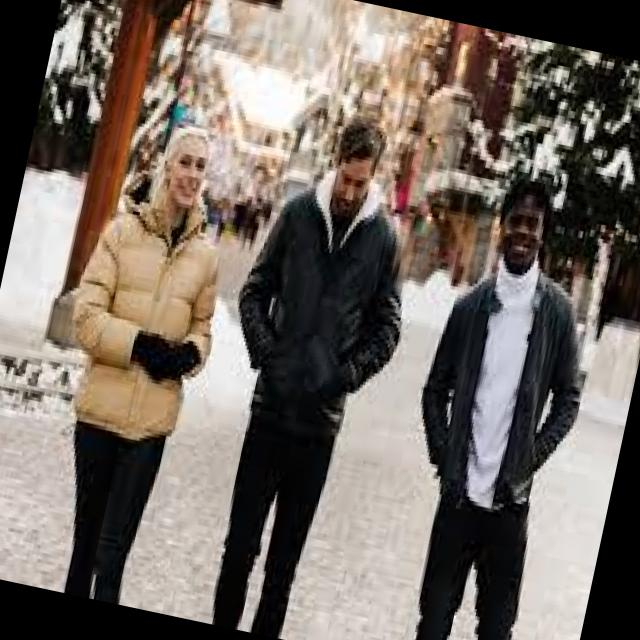Jacket: (208, 170, 432, 462), (38, 186, 242, 485), (401, 248, 609, 520)
